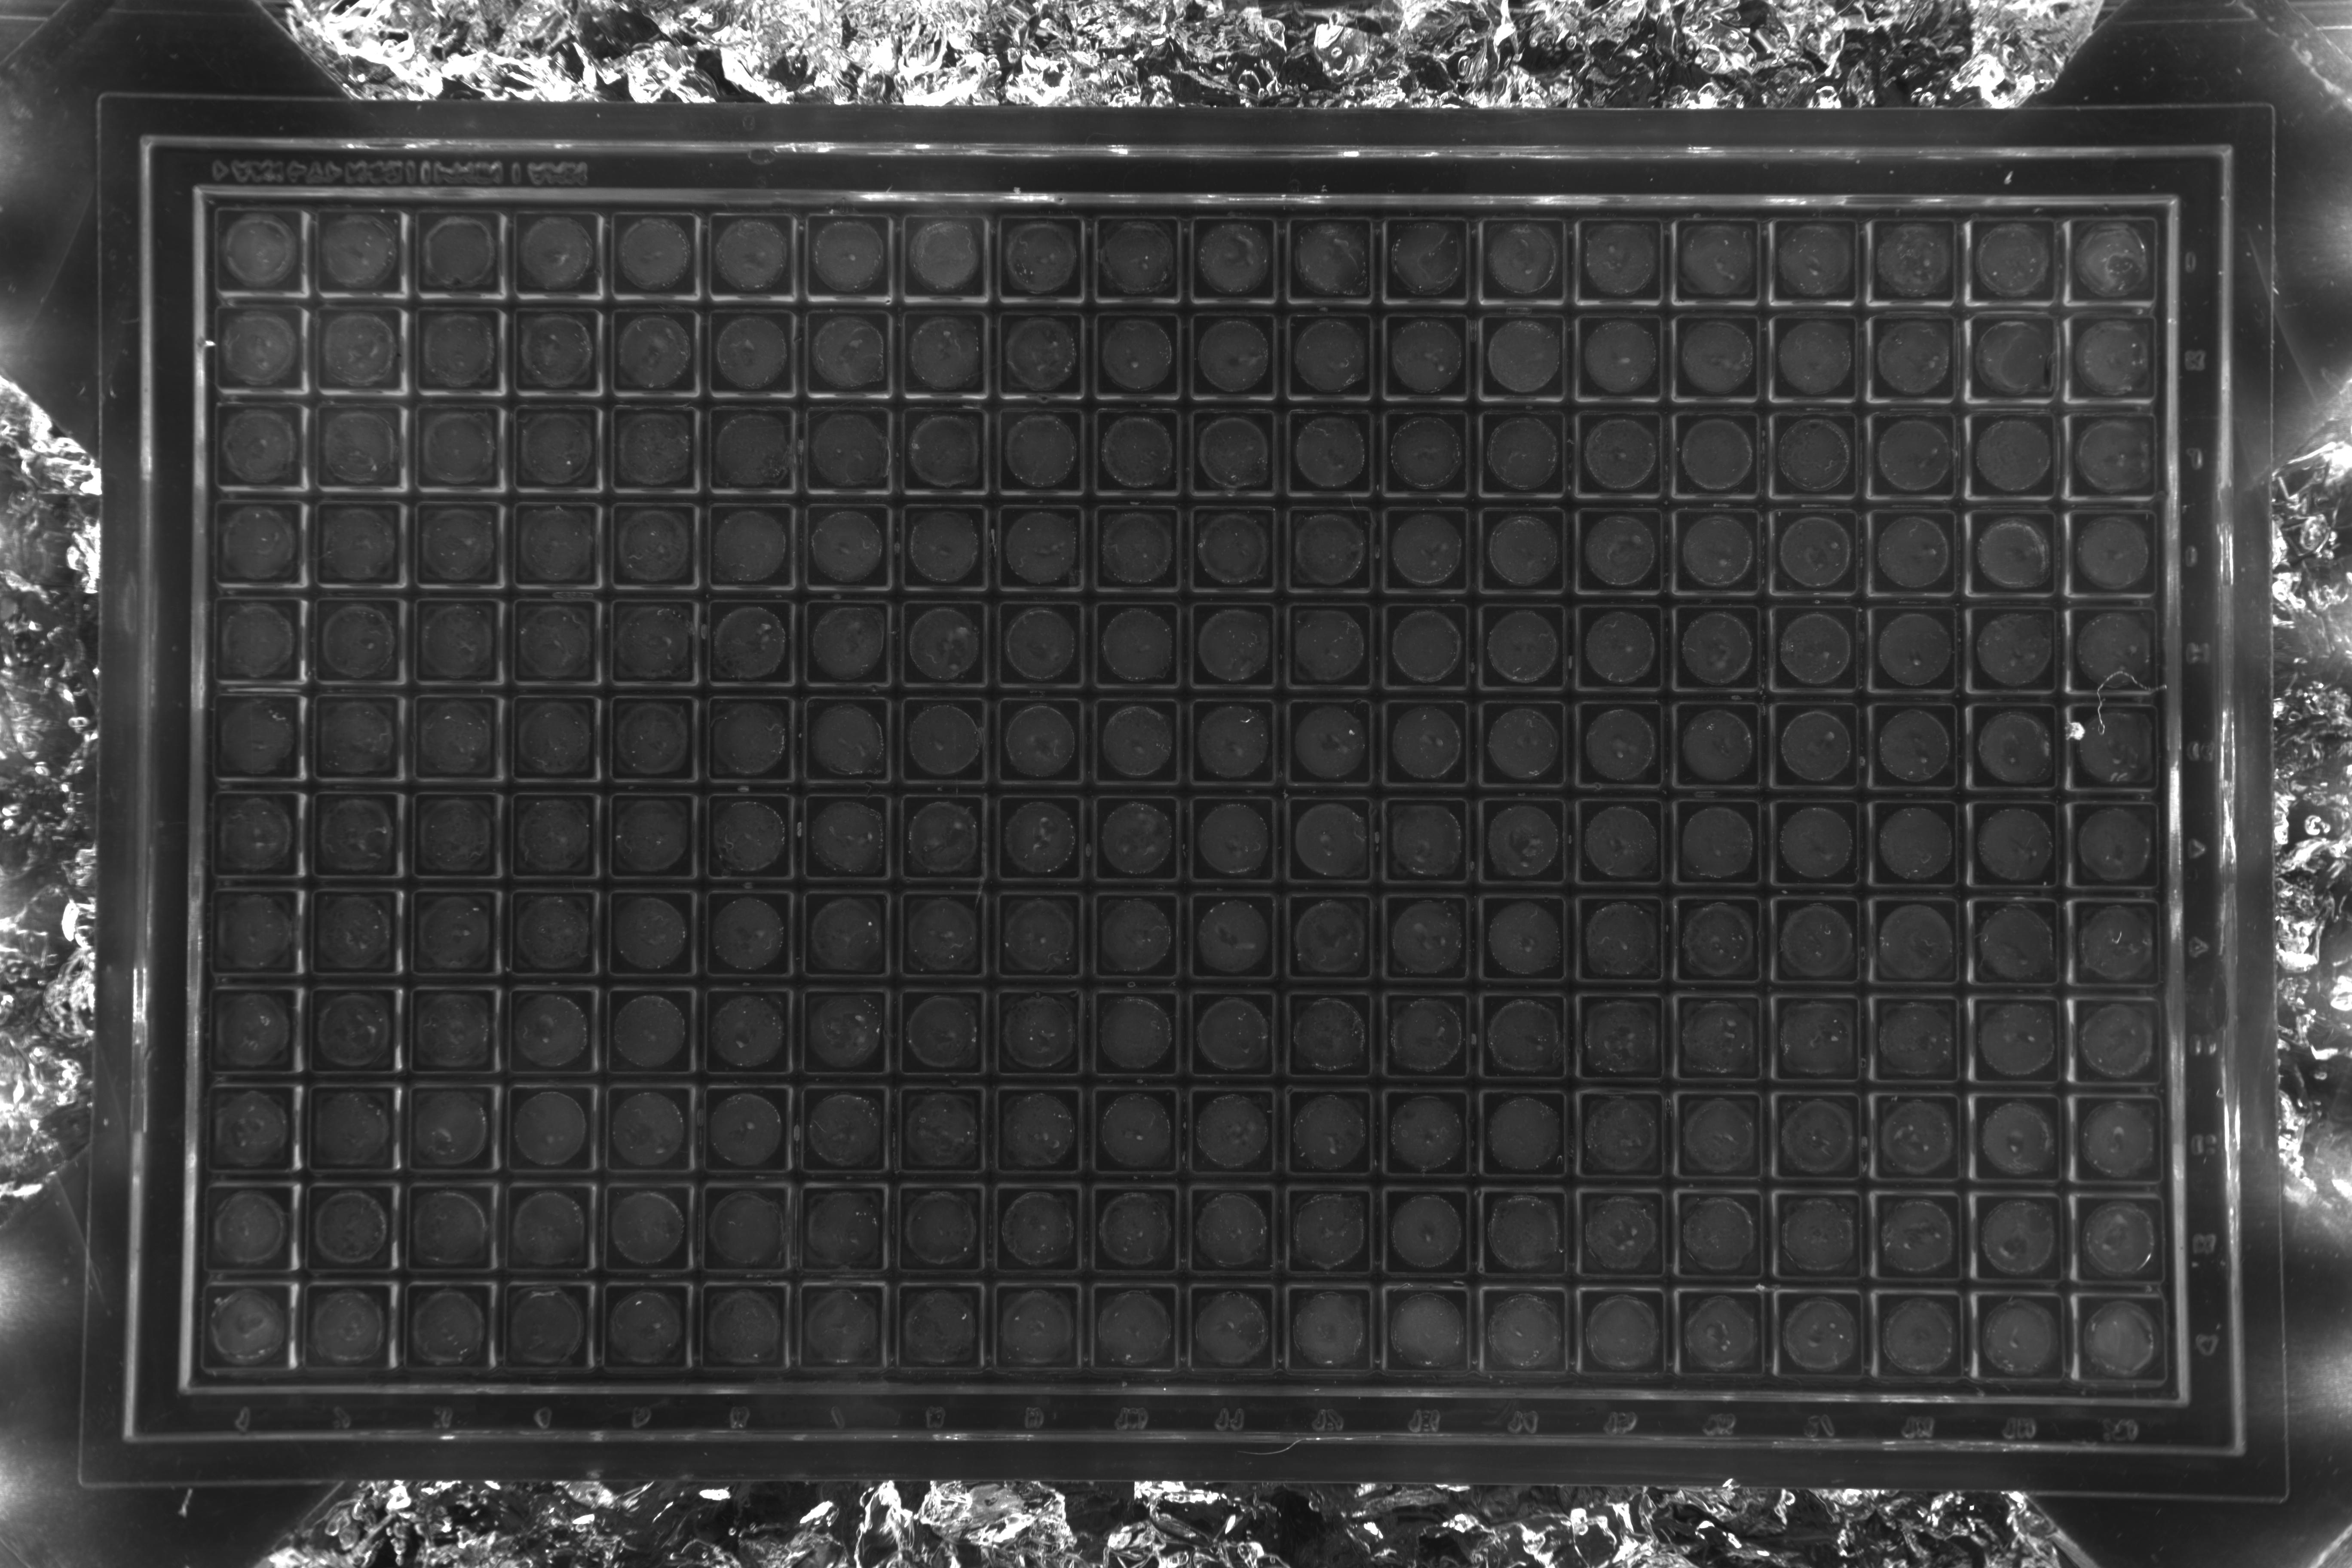WM_well: (497, 653, 586, 740), (591, 945, 681, 1032), (789, 558, 878, 646), (980, 1141, 1069, 1228), (205, 360, 292, 448), (390, 1242, 478, 1330), (401, 458, 488, 546), (595, 362, 682, 450), (693, 364, 780, 451), (882, 1239, 969, 1326), (1176, 560, 1263, 647), (1176, 754, 1263, 842), (1370, 754, 1458, 842), (1370, 1046, 1458, 1134), (1466, 656, 1554, 744), (1466, 754, 1554, 842), (1468, 1144, 1556, 1232), (1661, 560, 1748, 647), (1664, 950, 1752, 1038), (1857, 268, 1944, 355), (1858, 560, 1946, 647), (1956, 366, 2044, 453), (1956, 462, 2044, 549), (2056, 464, 2144, 551), (2056, 560, 2144, 647)
